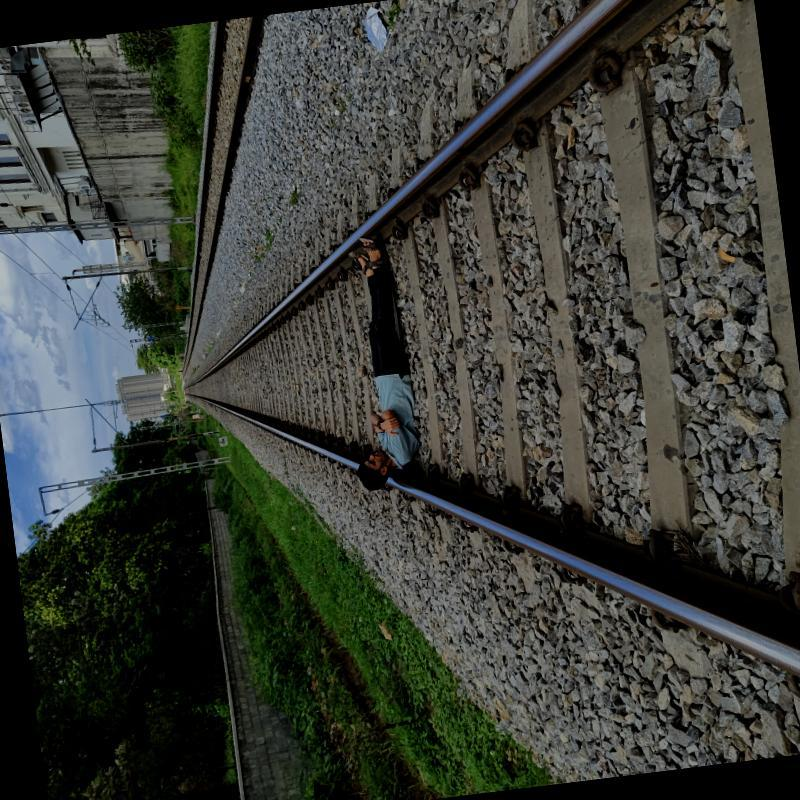sleeping: (322, 226, 421, 491)
